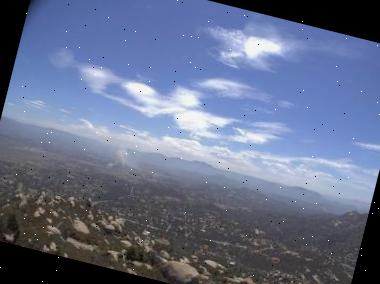smoke: (99, 138, 145, 178)
